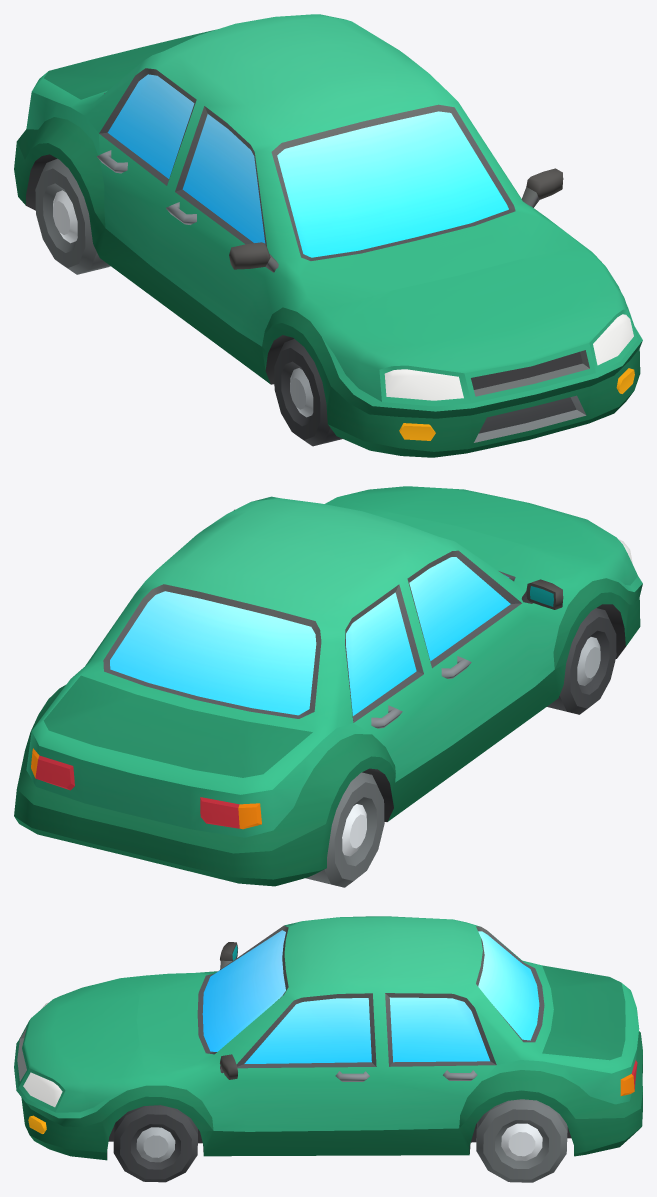
The model's file is city2-car-28.glb.
The picture shows the model from 3 angles, top to bottom: view 1: azimuth 30°, elevation 25°; view 2: azimuth 150°, elevation 25°; view 3: azimuth 270°, elevation 25°; orthographic projection. The views are drawn at different scales.
Visible parts, largest first — view 1: Car_1.019, Wheel_106, Wheel_105; view 2: Car_1.019, Wheel_106, Wheel_105; view 3: Car_1.019, Wheel_108, Wheel_107.
Boxes of the visible parts, <box> form: Car_1.019: <box>14,14,642,457</box>; Wheel_106: <box>35,158,110,274</box>; Wheel_105: <box>274,339,342,446</box>; Car_1.019: <box>14,486,642,886</box>; Wheel_106: <box>305,772,384,887</box>; Wheel_105: <box>547,608,616,714</box>; Car_1.019: <box>14,916,642,1160</box>; Wheel_108: <box>476,1099,567,1182</box>; Wheel_107: <box>113,1105,197,1182</box>.
Bounding box in the file's own units: 2.44 × 1.7 × 5.17.
Materials: 2 (2 with a texture image).
